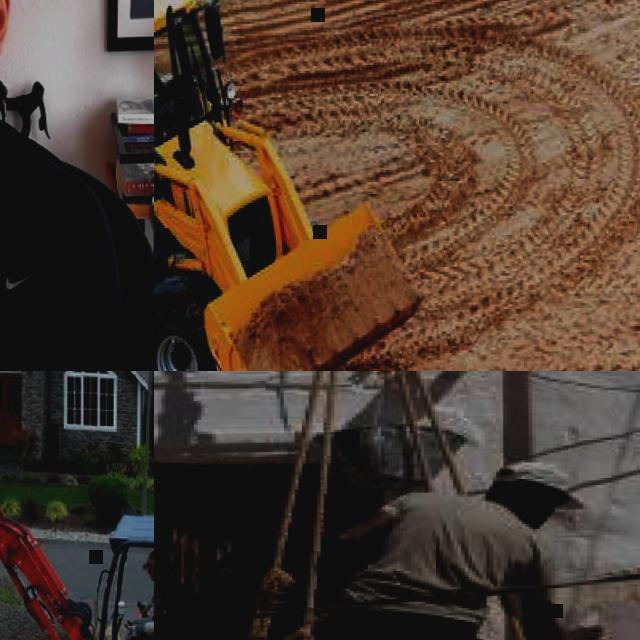helmet: (484, 456, 574, 502)
machinery: (154, 0, 423, 371), (0, 498, 154, 640)
no_helmet: (143, 549, 154, 566)
no_mask: (521, 500, 550, 528), (149, 572, 154, 580)
no_vest: (334, 492, 509, 622), (0, 126, 58, 371)
person: (162, 453, 588, 640), (0, 0, 129, 371), (112, 548, 154, 640), (154, 48, 168, 116)
